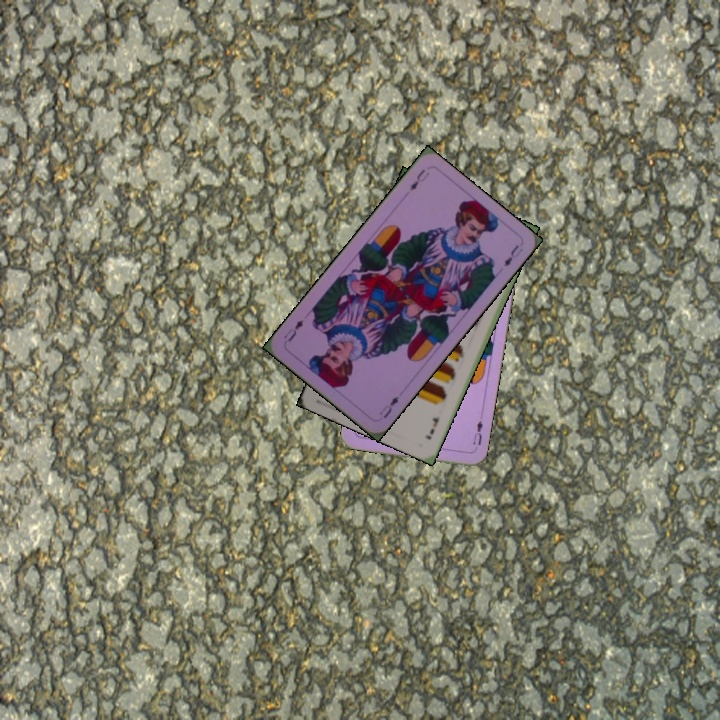E7: (421, 413, 442, 442)
EU: (375, 392, 401, 421), (406, 165, 432, 193), (469, 413, 486, 453)
